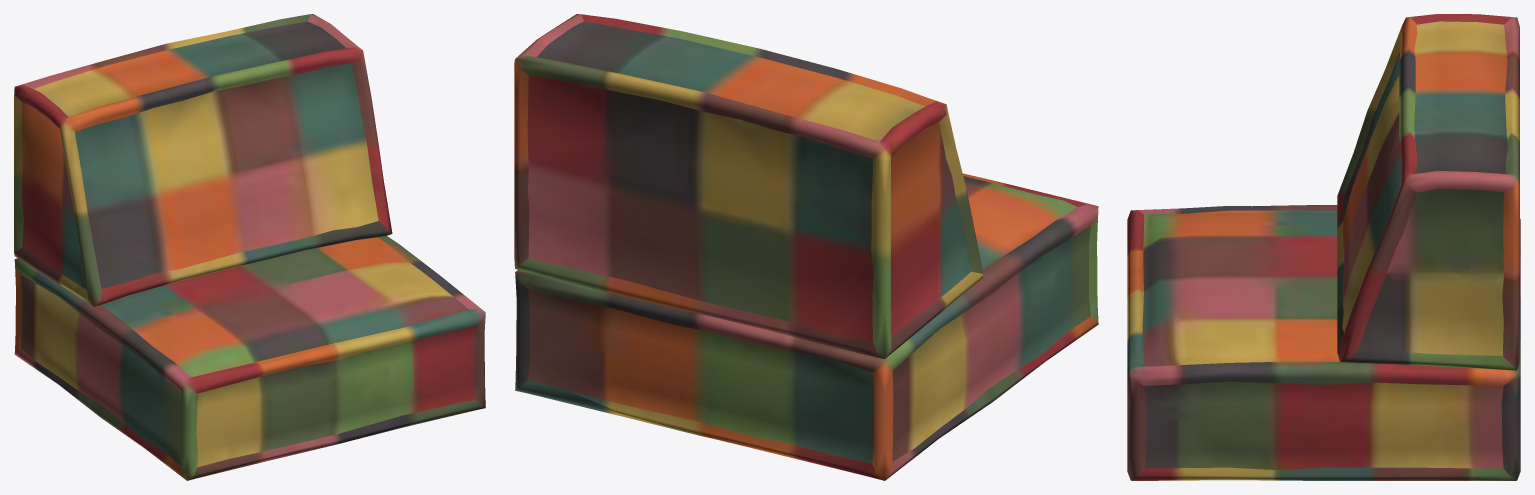
The picture shows the model from 3 angles, left to right: view 1: azimuth 30°, elevation 25°; view 2: azimuth 150°, elevation 25°; view 3: azimuth 270°, elevation 25°; orthographic projection. The views are drawn at different scales.
Size of the model in its own units: 10 by 8.8 by 10.
1 material, 1 textured.
